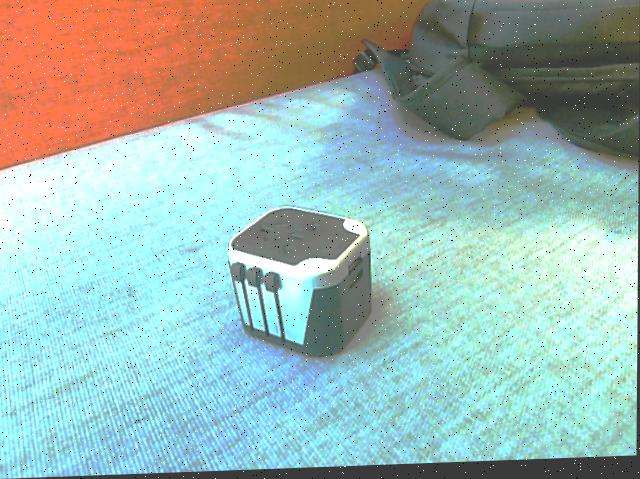adapter: (226, 205, 373, 363)
